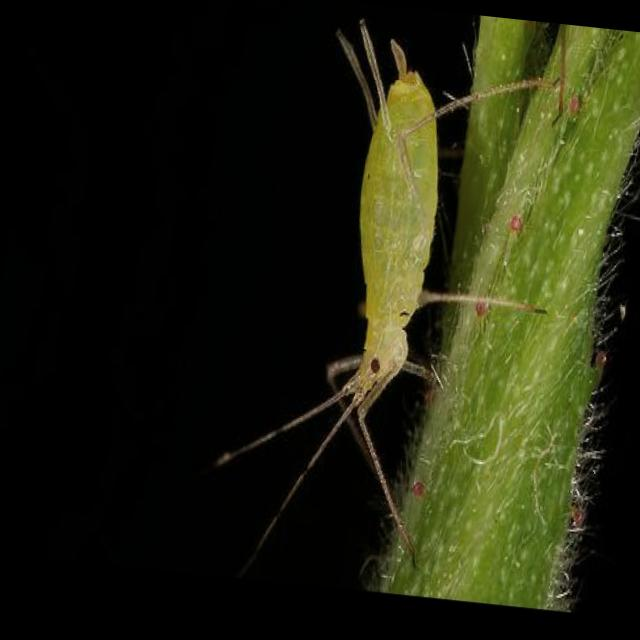Aphid: (218, 18, 571, 564)
